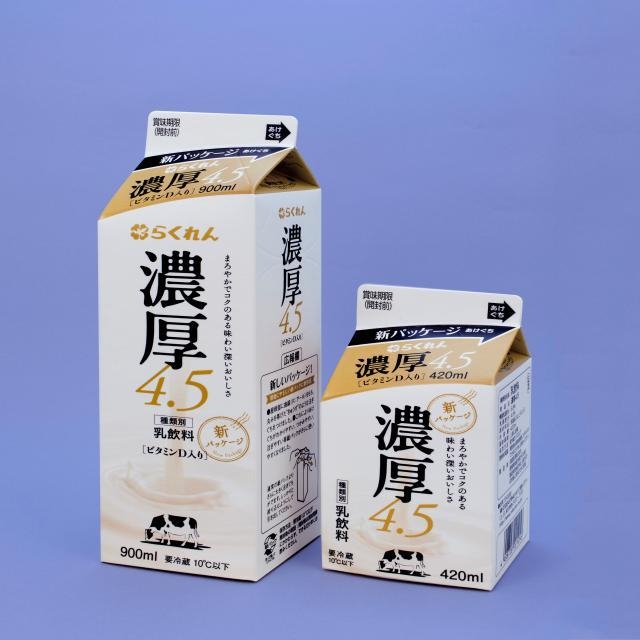Carton: (71, 80, 326, 590), (323, 270, 544, 600)
